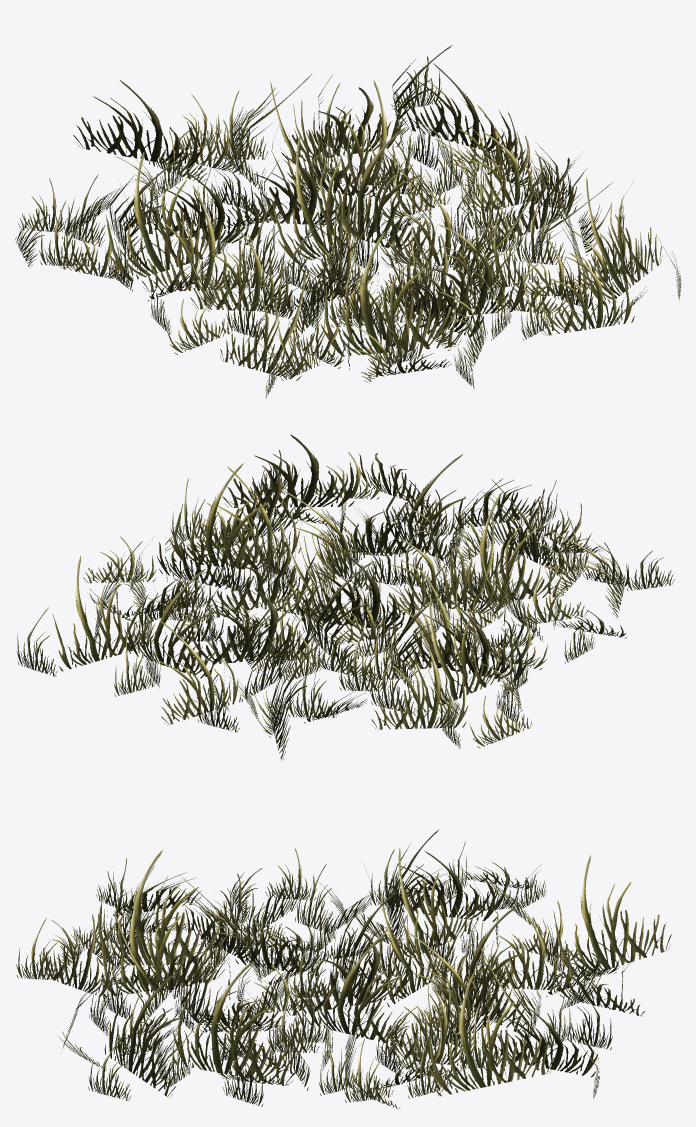
Rendered from SM_Plains_Grass01.FBX.
3 renders of one model, top to bottom at view 1: azimuth 30°, elevation 25°; view 2: azimuth 150°, elevation 25°; view 3: azimuth 270°, elevation 25°, orthographic. The views are drawn at different scales.
Parts seen in each view (by area): view 1: SM_Plains_Grass01; view 2: SM_Plains_Grass01; view 3: SM_Plains_Grass01.
Part boxes in pixels (box(x1,y1,x2,y2)): SM_Plains_Grass01: box(15, 45, 681, 398); SM_Plains_Grass01: box(16, 434, 674, 760); SM_Plains_Grass01: box(16, 829, 671, 1108).
Bounding box in the file's own units: 166 × 31.9 × 191.
1 material, 1 textured.
